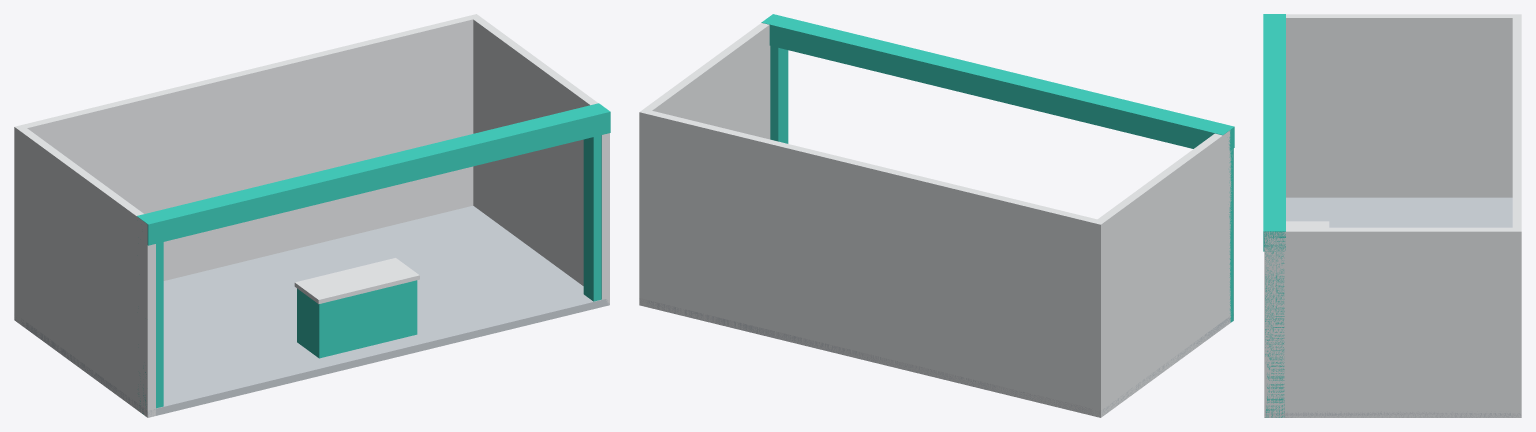
The picture shows the model from 3 angles, left to right: view 1: azimuth 30°, elevation 25°; view 2: azimuth 150°, elevation 25°; view 3: azimuth 270°, elevation 25°; orthographic projection. The views are drawn at different scales.
Visible parts, largest first — view 1: Exhibition Booth Concept; view 2: Exhibition Booth Concept; view 3: Exhibition Booth Concept.
Part boxes in pixels (x1=…): Exhibition Booth Concept: x1=14, y1=14, x2=610, y2=417; Exhibition Booth Concept: x1=639, y1=14, x2=1234, y2=417; Exhibition Booth Concept: x1=1263, y1=14, x2=1521, y2=417.
Size of the model in its own units: 8 by 3.2 by 4.02.
